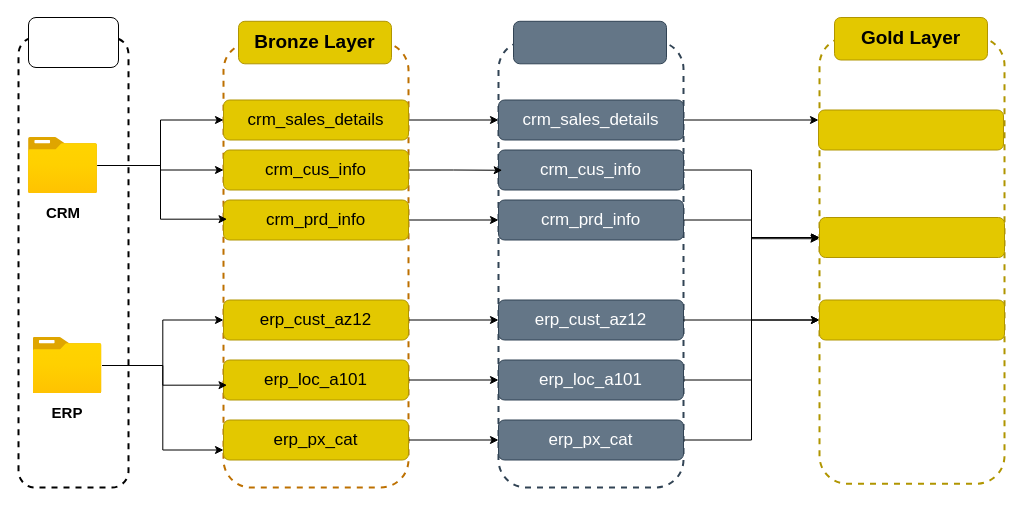
Image size: 1022x506. Some labels were removed from this diagram. The box of each missing label's shape, as (x1, y1, x2, y2) in pixels:
dim_customers: (818, 216, 1004, 258)
dim_products: (818, 299, 1004, 340)
fact_sales: (818, 109, 1004, 150)
Sliver Layer: (512, 20, 666, 64)
Sources: (28, 16, 118, 68)
